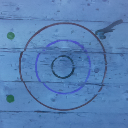Axe Tip: (102, 32, 111, 34)
